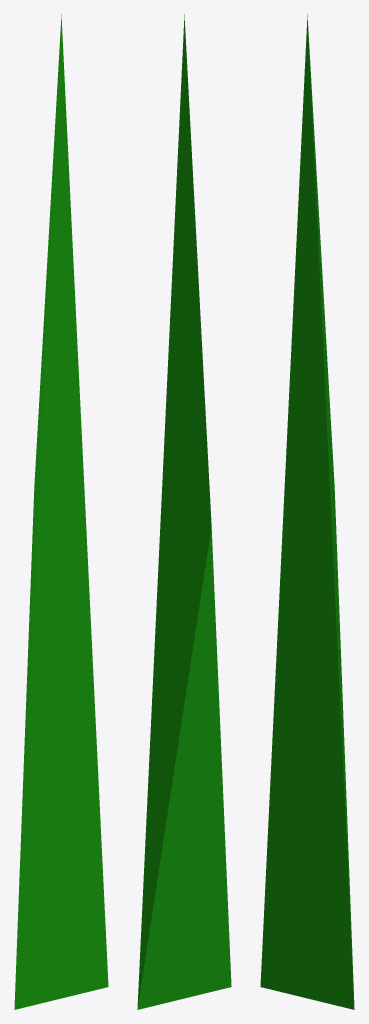
File: grass.glb
3 renders of one model, left to right at view 1: azimuth 30°, elevation 25°; view 2: azimuth 210°, elevation 25°; view 3: azimuth 330°, elevation 25°, orthographic.
Visible parts, largest first — view 1: Plane; view 2: Plane; view 3: Plane.
Boxes of the visible parts, x1,y1,x2,y2 form: Plane: [14, 14, 108, 1009]; Plane: [137, 14, 231, 1009]; Plane: [260, 14, 354, 1009].
Bounding box in the file's own units: 0.04 × 0.4 × 0.02.
Materials: 1 (1 with a texture image).
